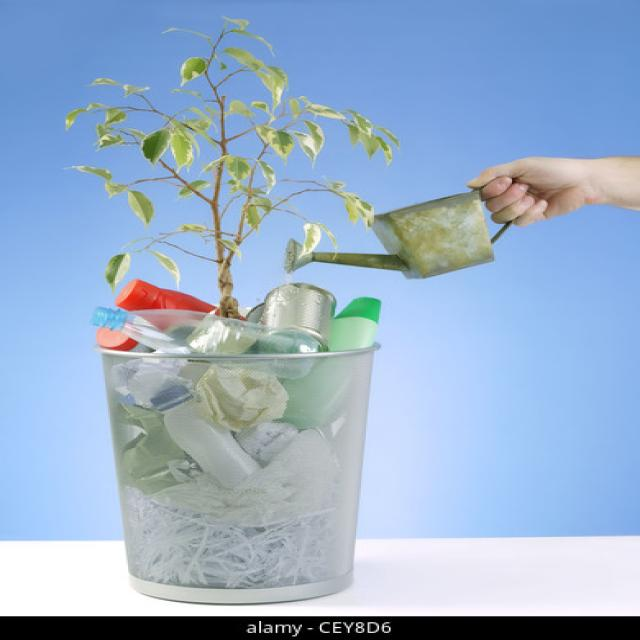plastic: (115, 377, 363, 569), (92, 308, 377, 366)
